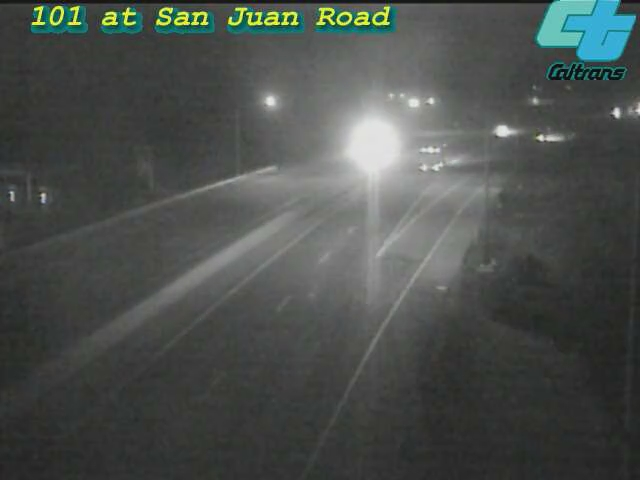vehicle: (341, 121, 391, 171), (480, 106, 530, 156), (522, 113, 572, 163), (416, 128, 466, 178), (593, 88, 640, 138)
